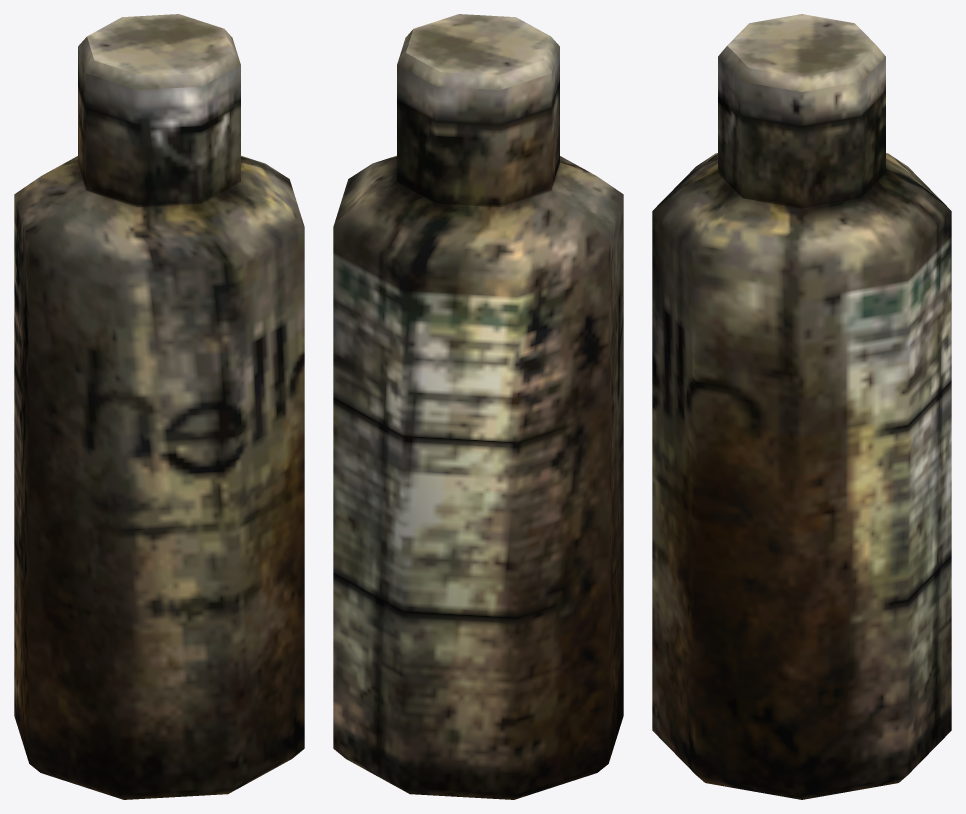
The model's file is bathRoom15.FBX.
3 renders of one model, left to right at view 1: azimuth 30°, elevation 25°; view 2: azimuth 150°, elevation 25°; view 3: azimuth 270°, elevation 25°, orthographic.
Visible parts, largest first — view 1: SM_Bathroom15; view 2: SM_Bathroom15; view 3: SM_Bathroom15.
Boxes of the visible parts, x1,y1,x2,y2 form: SM_Bathroom15: (14,14,304,799); SM_Bathroom15: (333,14,623,799); SM_Bathroom15: (652,14,951,799).
Bounding box in the file's own units: 5.75 × 14.74 × 5.75.
1 material, 1 textured.
